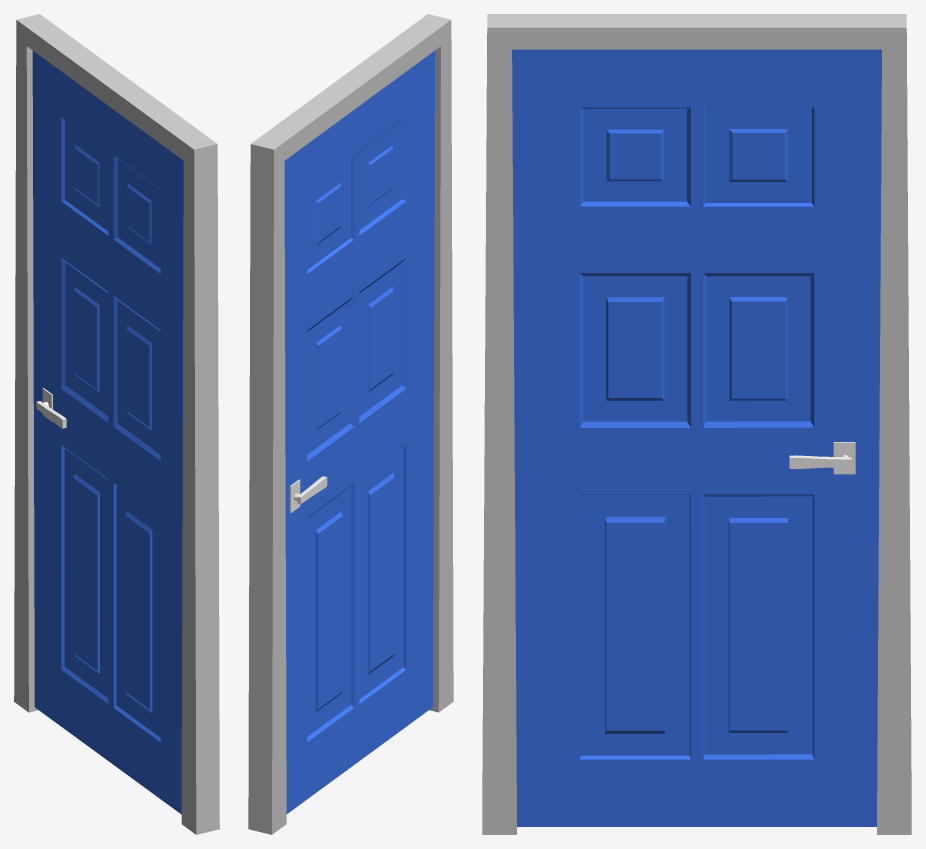
The model's file is Bath_Door.glb.
3 renders of one model, left to right at view 1: azimuth 30°, elevation 25°; view 2: azimuth 150°, elevation 25°; view 3: azimuth 270°, elevation 25°, orthographic. The views are drawn at different scales.
Parts seen in each view (by area): view 1: DOOR; view 2: DOOR; view 3: DOOR.
Boxes of the visible parts, x1,y1,x2,y2 form: DOOR: (14, 14, 219, 834); DOOR: (248, 14, 453, 834); DOOR: (482, 14, 911, 834).
Bounding box in the file's own units: 0.1036 × 2.21 × 1.07.
